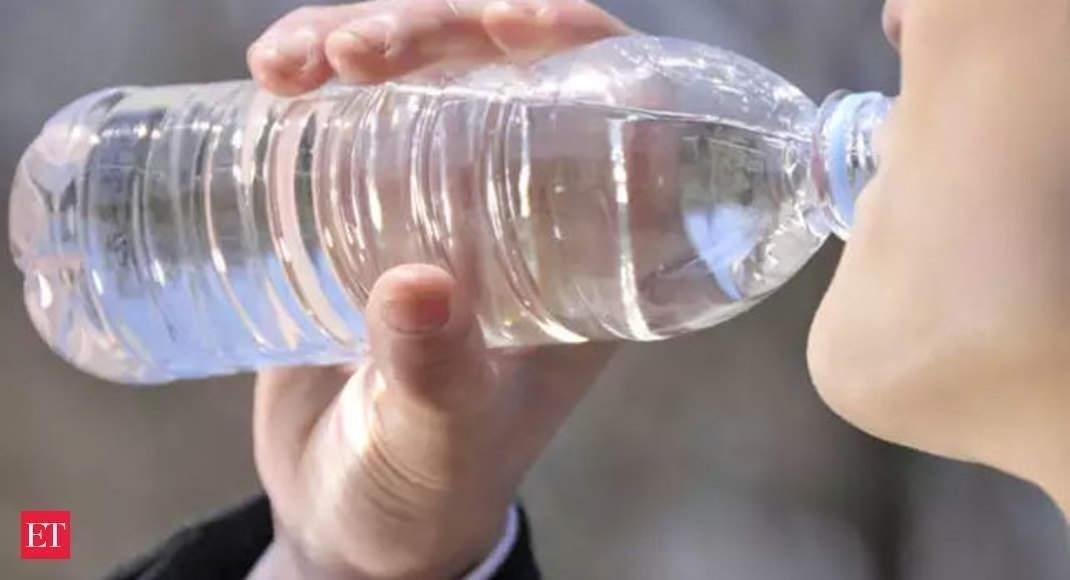bottle-plastic: (9, 23, 898, 384)
